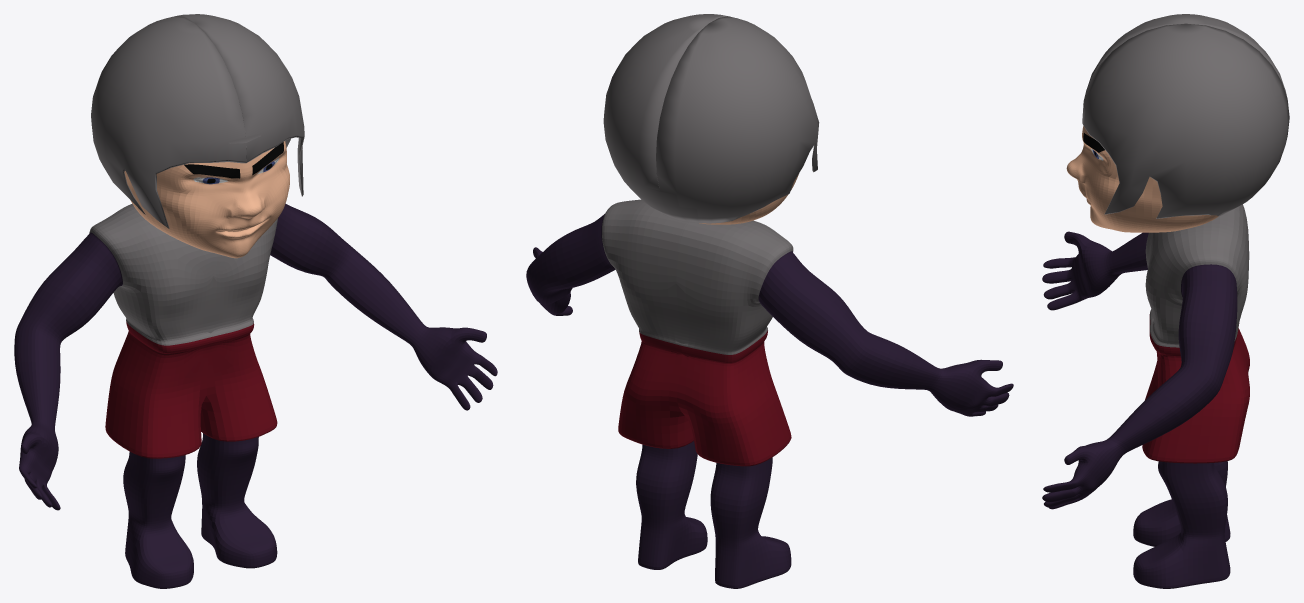
File: karakter3.fbx
The picture shows the model from 3 angles, left to right: view 1: azimuth 30°, elevation 25°; view 2: azimuth 150°, elevation 25°; view 3: azimuth 270°, elevation 25°; orthographic projection.
Parts seen in each view (by area): view 1: Cube, Sphere.001, Sphere; view 2: Cube, Sphere.001; view 3: Cube, Sphere.001, Sphere.
Boxes of the visible parts, x1,y1,x2,y2 form: Cube: [14, 203, 497, 588]; Sphere.001: [91, 14, 304, 228]; Sphere: [124, 141, 289, 258]; Cube: [526, 199, 1013, 588]; Sphere.001: [603, 14, 819, 223]; Cube: [1042, 204, 1249, 588]; Sphere.001: [1082, 14, 1289, 218]; Sphere: [1066, 126, 1218, 232].
Bounding box in the file's own units: 128 × 140 × 58.85.
